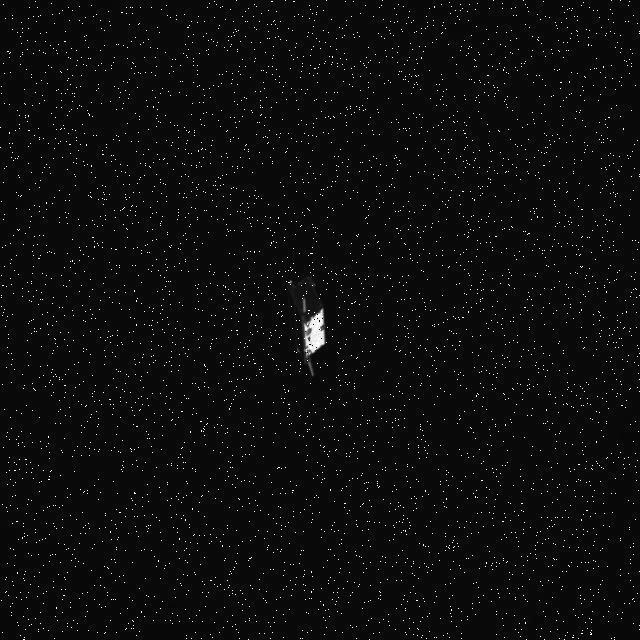medium_debris: (276, 272, 334, 378)
